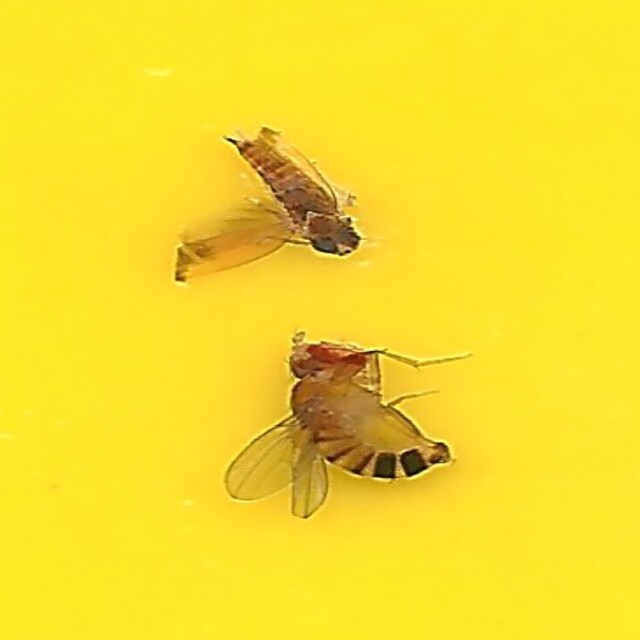Brachycera: (230, 339, 465, 516)
Hemiptera: (175, 124, 365, 289)
